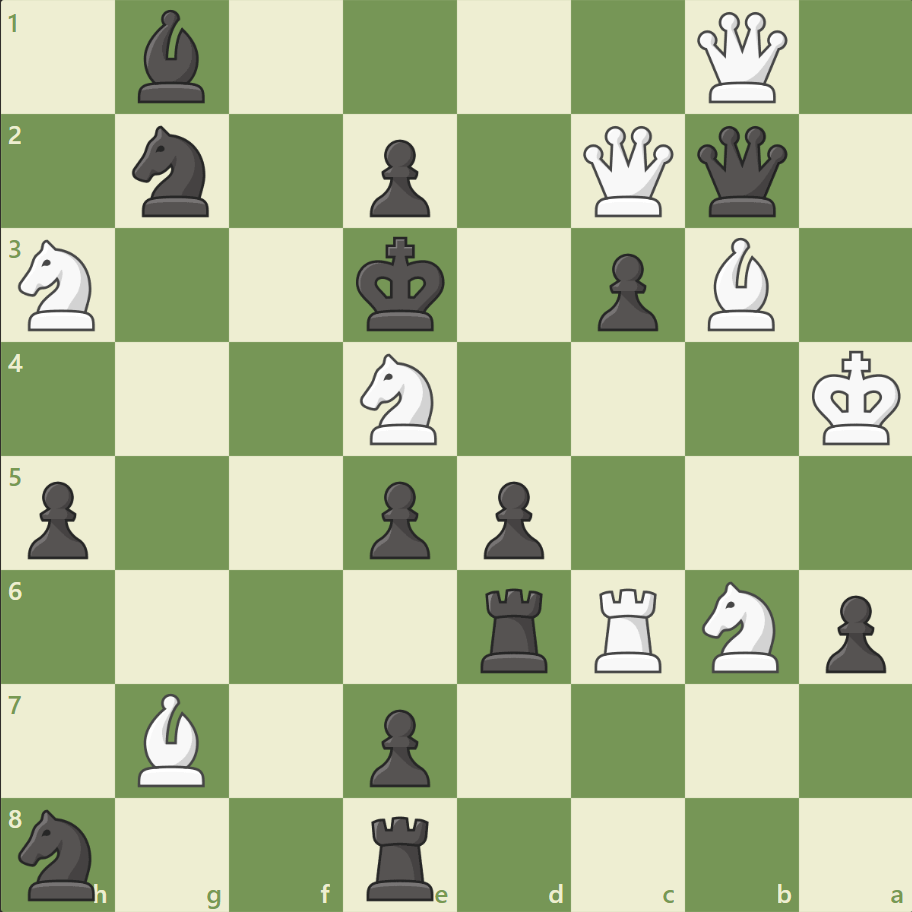B: (131, 687, 215, 790), (698, 233, 782, 336)
K: (806, 344, 906, 452)
N: (351, 348, 449, 450), (11, 234, 108, 337), (692, 575, 789, 677)
Q: (578, 122, 677, 222), (691, 9, 790, 108)
R: (587, 579, 670, 676)
b: (131, 6, 215, 109)
k: (351, 231, 451, 339)
n: (124, 121, 222, 223), (11, 802, 108, 904)
p: (474, 473, 549, 564), (20, 473, 95, 564), (361, 700, 435, 791), (815, 586, 889, 677), (361, 473, 435, 564), (588, 246, 662, 337), (361, 132, 435, 223)
q: (691, 122, 790, 222)
r: (473, 579, 556, 676), (360, 806, 442, 904)
